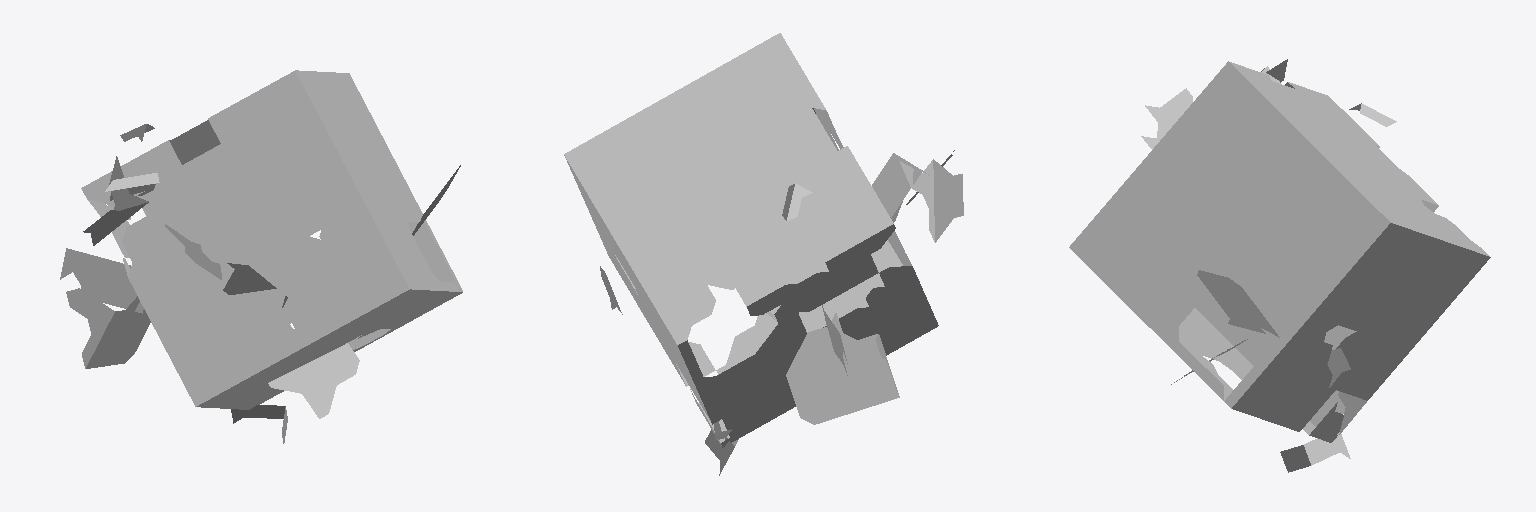
File: explode_000018.obj
3 views of the same model, side by side, from view 1: azimuth 30°, elevation 25°; view 2: azimuth 150°, elevation 25°; view 3: azimuth 270°, elevation 25° (orthographic).
Visible parts, largest first — view 1: Cube_Cube.001; view 2: Cube_Cube.001; view 3: Cube_Cube.001.
Boxes of the visible parts, box(x1,y1,x2,y2) form: Cube_Cube.001: box(60, 70, 462, 443); Cube_Cube.001: box(564, 33, 963, 475); Cube_Cube.001: box(1069, 59, 1490, 472).
Size of the model in its own units: 3.43 by 3.57 by 3.39.